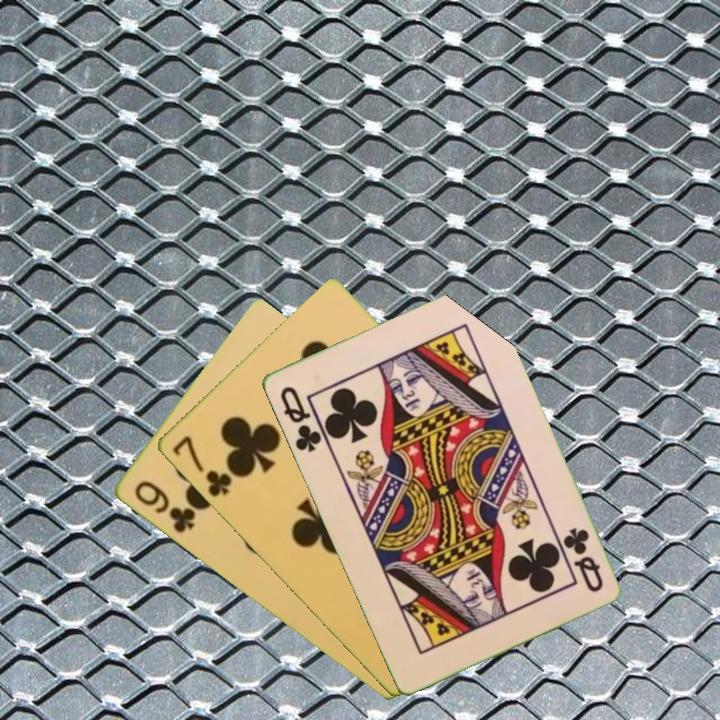7c: (168, 432, 235, 501)
9c: (130, 477, 198, 536)
Qc: (276, 382, 330, 456), (559, 523, 606, 595)
